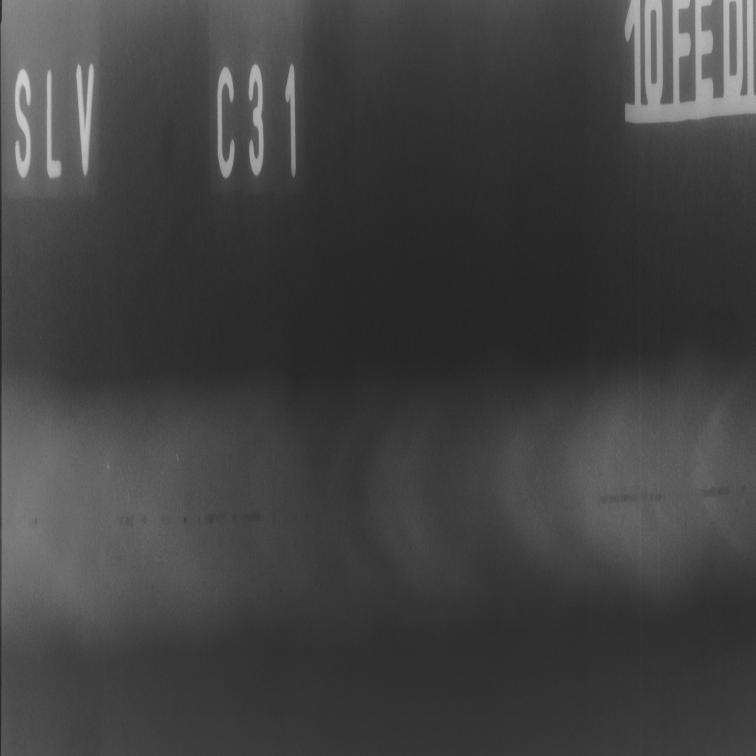FP: (4, 486, 321, 544), (593, 464, 750, 526)
